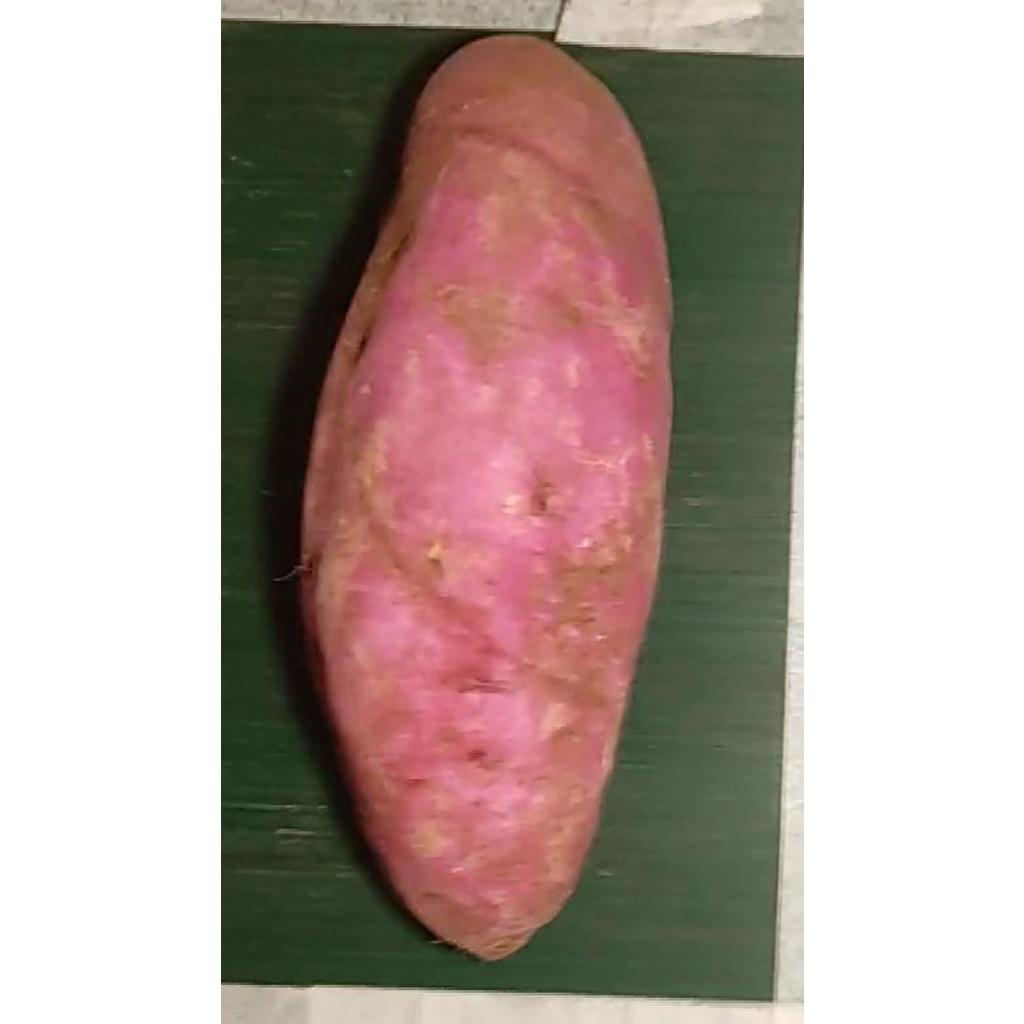Sweet Potato: (302, 36, 672, 959)
